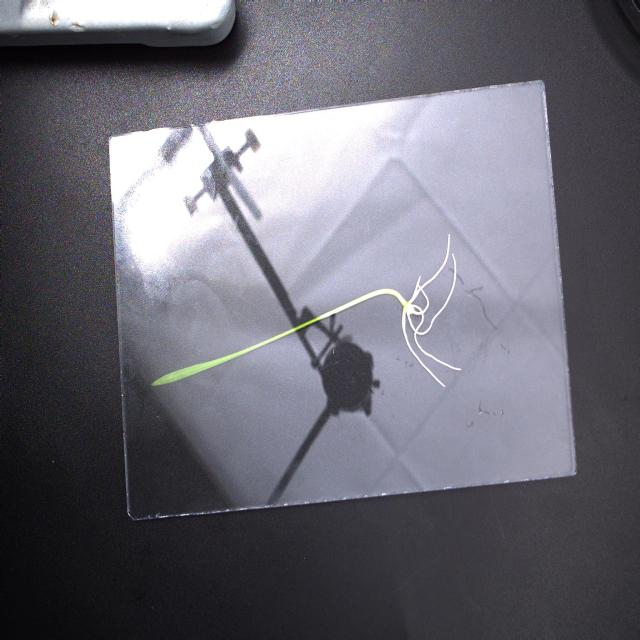leaf: (152, 318, 319, 389)
root: (402, 235, 460, 388)
stem: (318, 288, 408, 319)
